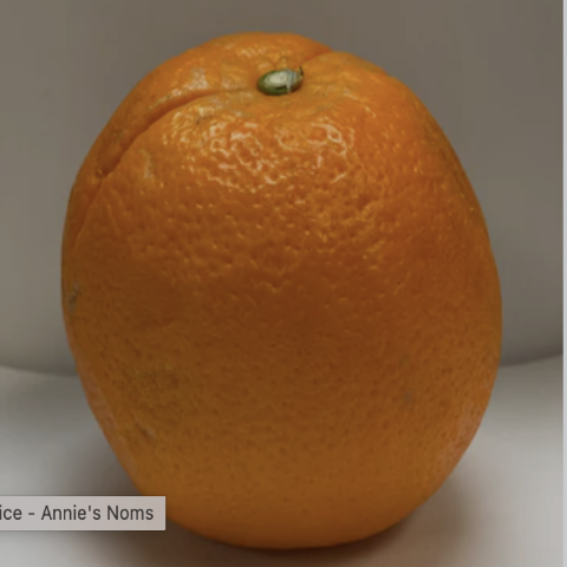orange: (25, 0, 526, 550)
